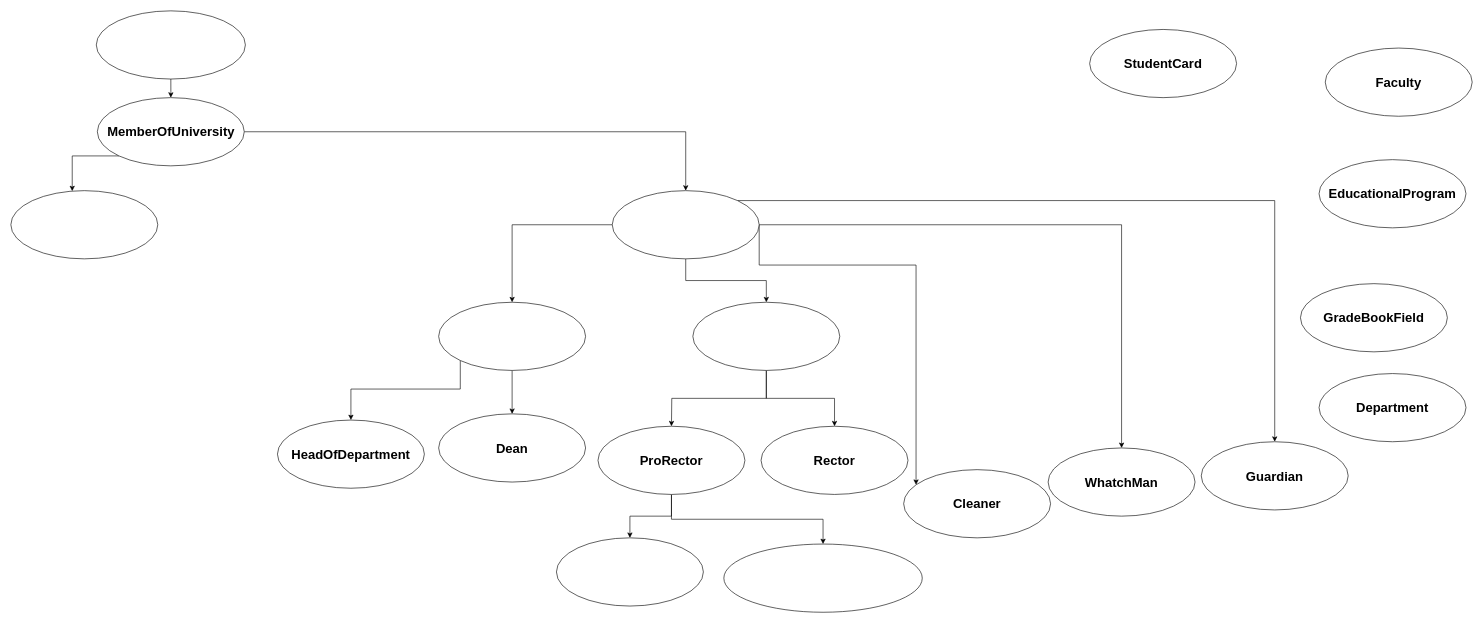
Some shapes in this 1483 by 623 pixel diagram are drawn without their labels. The shapes that lost their labels are listed below. From the top down, each one's centre as x and y in pixels, then its label:
At pixel 170 44: "Human".
At pixel 84 224: "Student".
At pixel 685 224: "Staff".
At pixel 512 336: "WorkerOfFaculty".
At pixel 766 336: "Administration".
At pixel 629 571: "ScientificProRector".
At pixel 822 577: "InternationalIssuesProRector".
